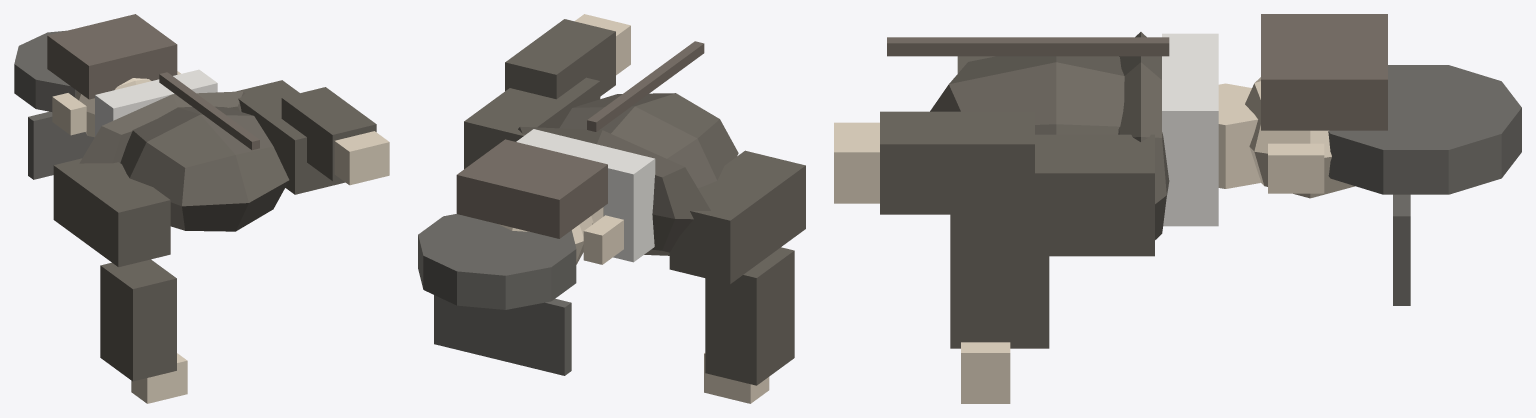
The model's file is taxi_driver.glb.
3 views of the same model, side by side, from view 1: azimuth 30°, elevation 25°; view 2: azimuth 150°, elevation 25°; view 3: azimuth 270°, elevation 25° (orthographic). The views are drawn at different scales.
Visible parts, largest first — view 1: TaxiDriver; view 2: TaxiDriver; view 3: TaxiDriver.
Part boxes in pixels (bbox=[...]): TaxiDriver: bbox=[14, 14, 389, 403]; TaxiDriver: bbox=[418, 14, 805, 403]; TaxiDriver: bbox=[834, 14, 1521, 403].
Bounding box in the file's own units: 0.58 × 0.62 × 0.975.
